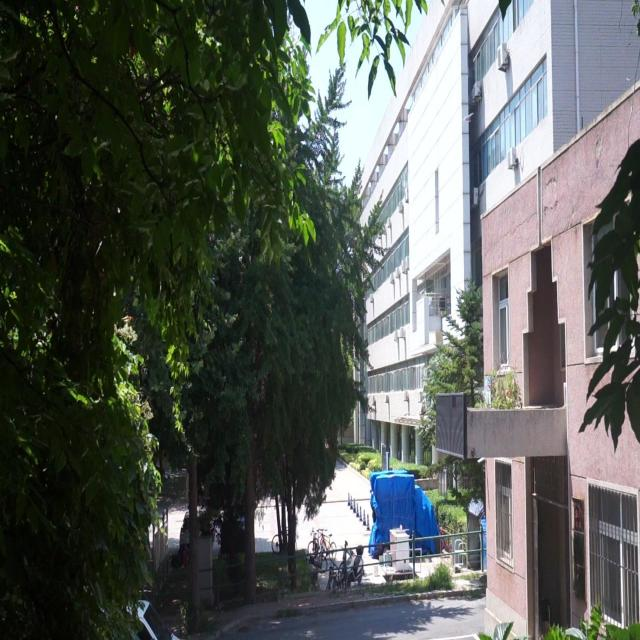UAV: (463, 112, 474, 122)
